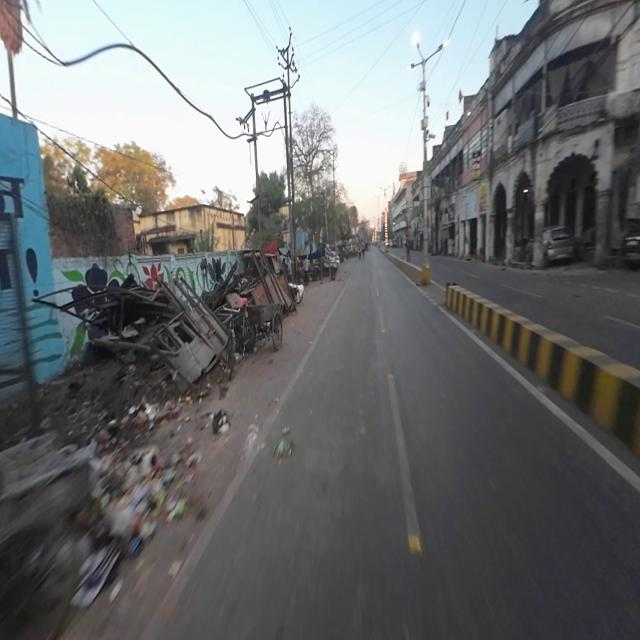Garbage: (57, 406, 162, 584)
